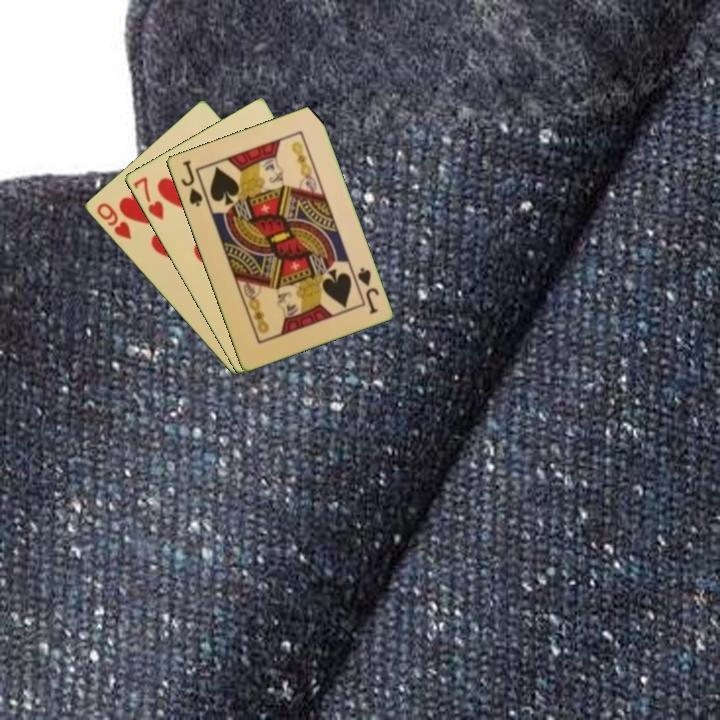7h: (129, 173, 166, 223)
9h: (93, 199, 134, 242)
Js: (349, 264, 381, 317), (177, 156, 205, 209)
